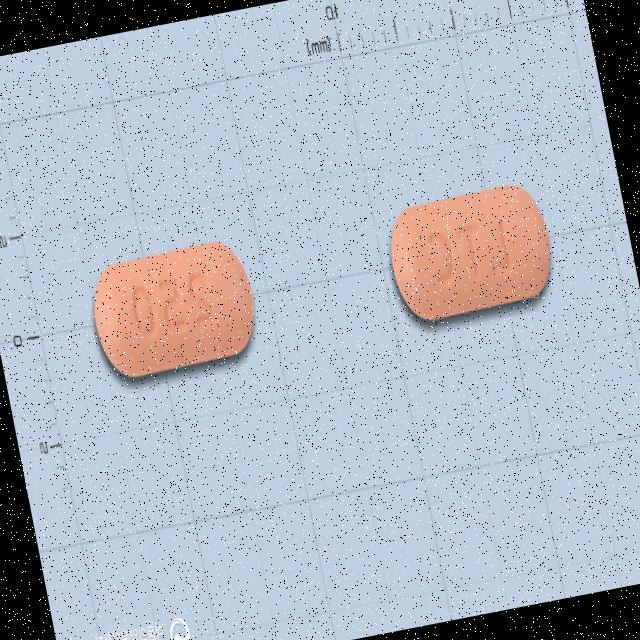Lectacin: (83, 234, 263, 384), (380, 178, 561, 327)
